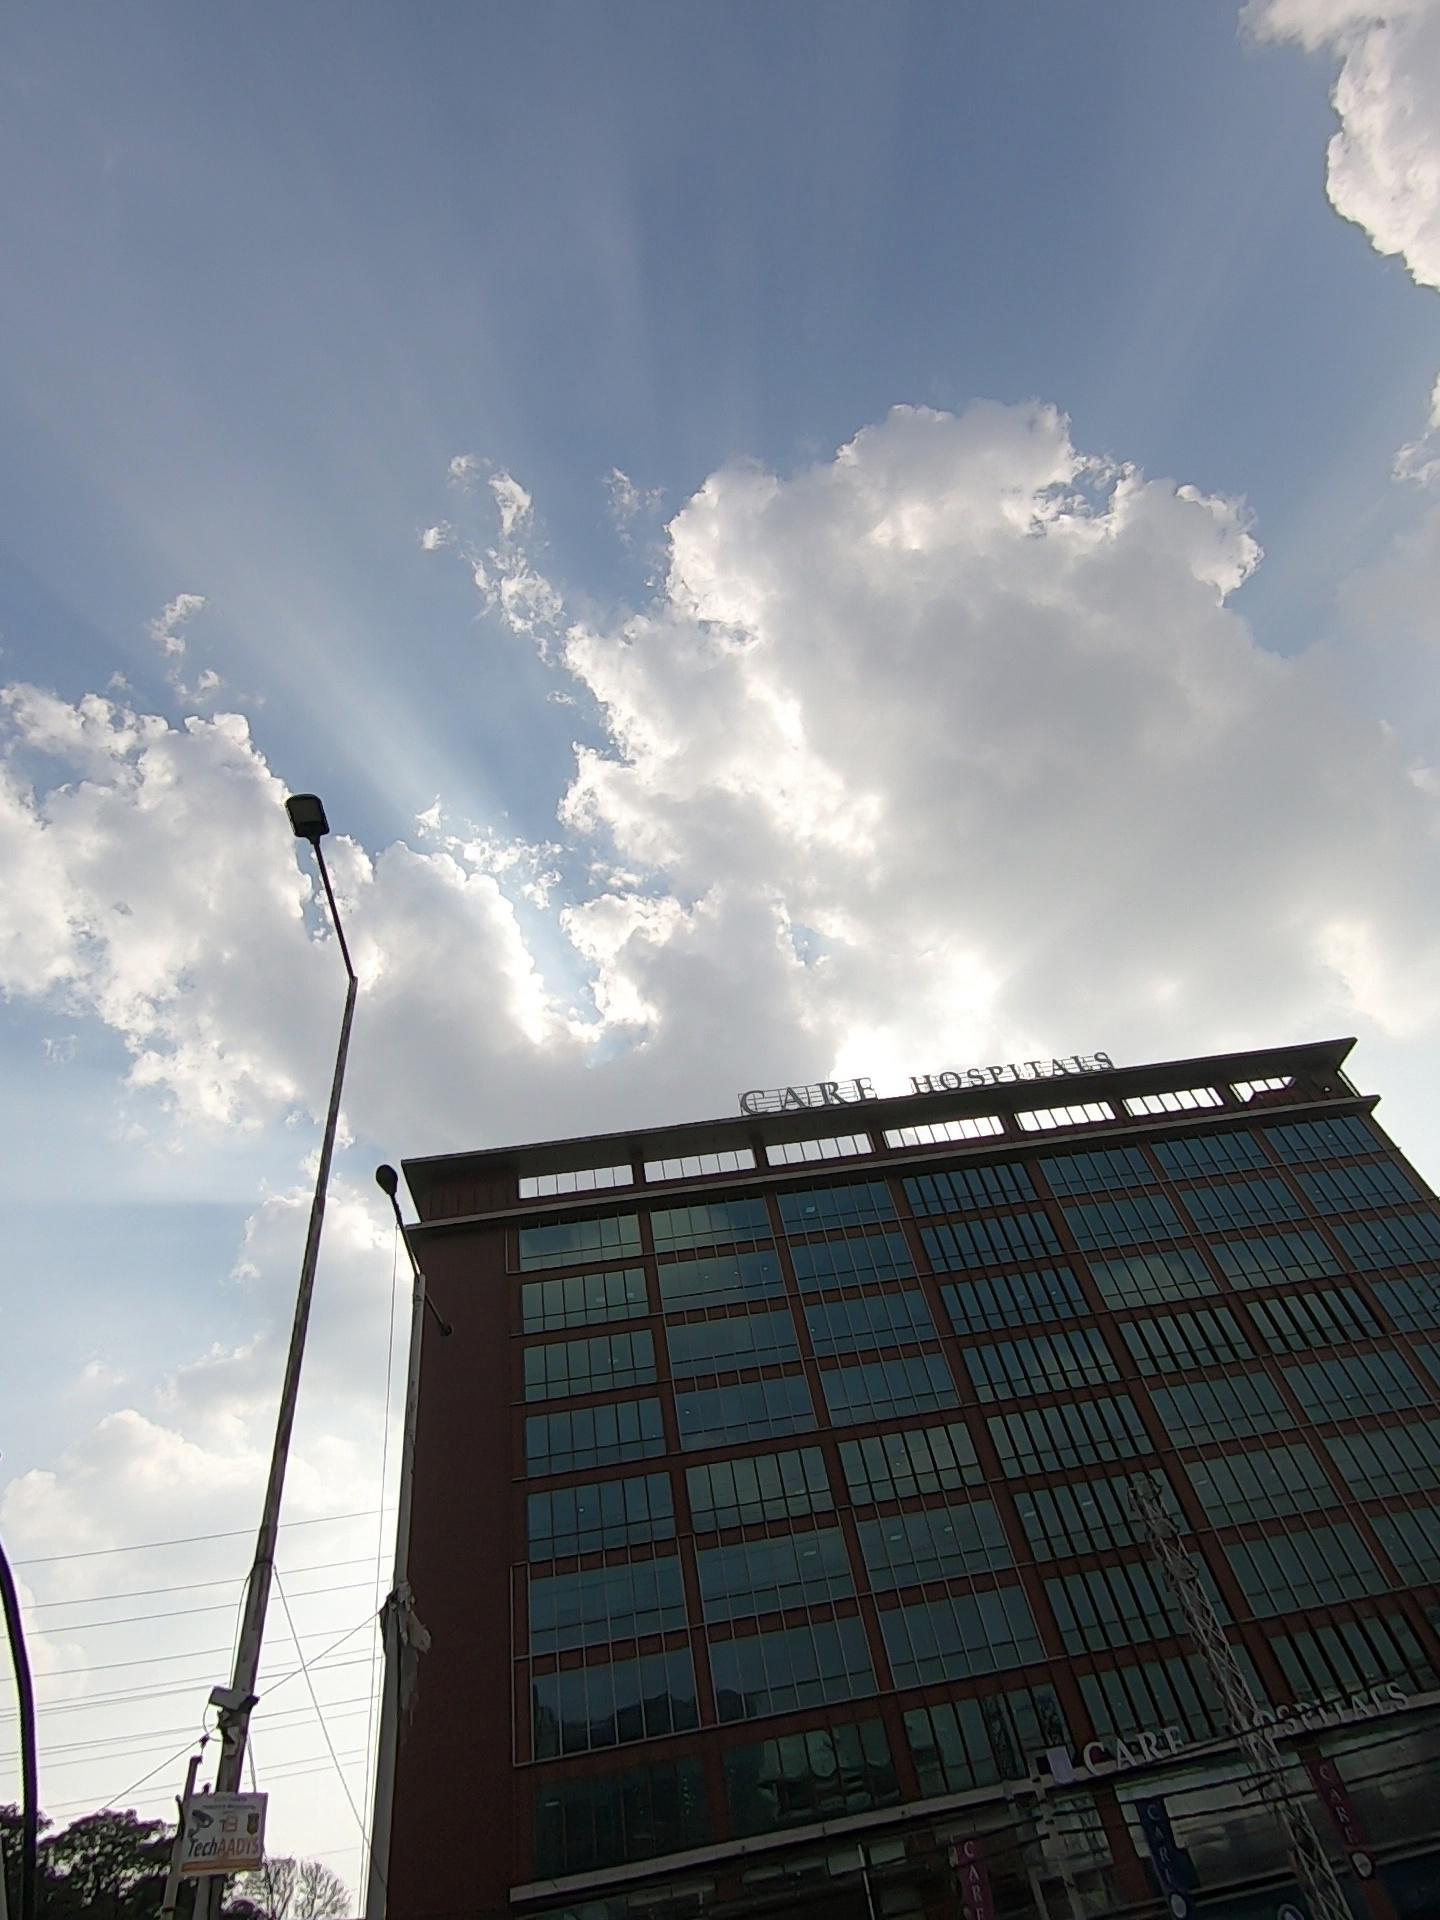off: (219, 732, 424, 1072)
